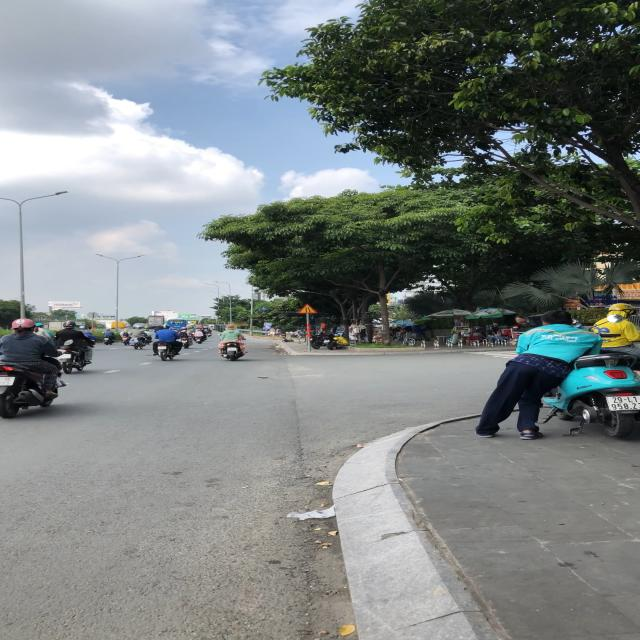Bien bao duong bi thu hep: (296, 303, 318, 314)
